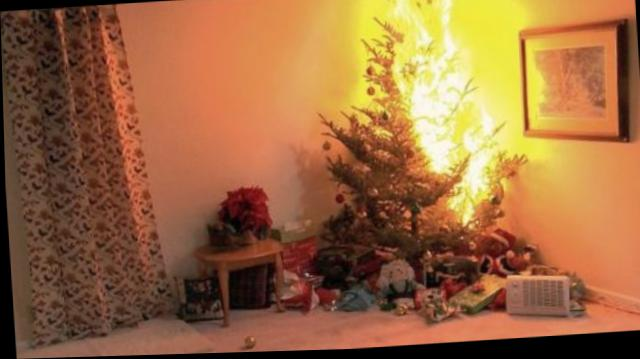fire: (308, 0, 550, 264)
